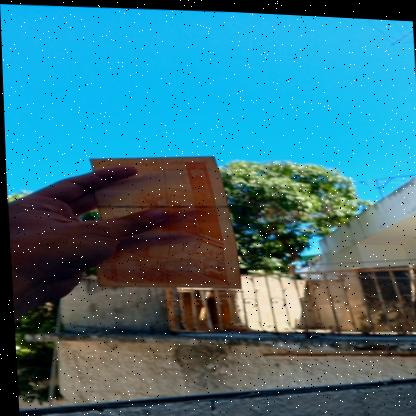twenty-back-vef: (88, 147, 239, 291)
